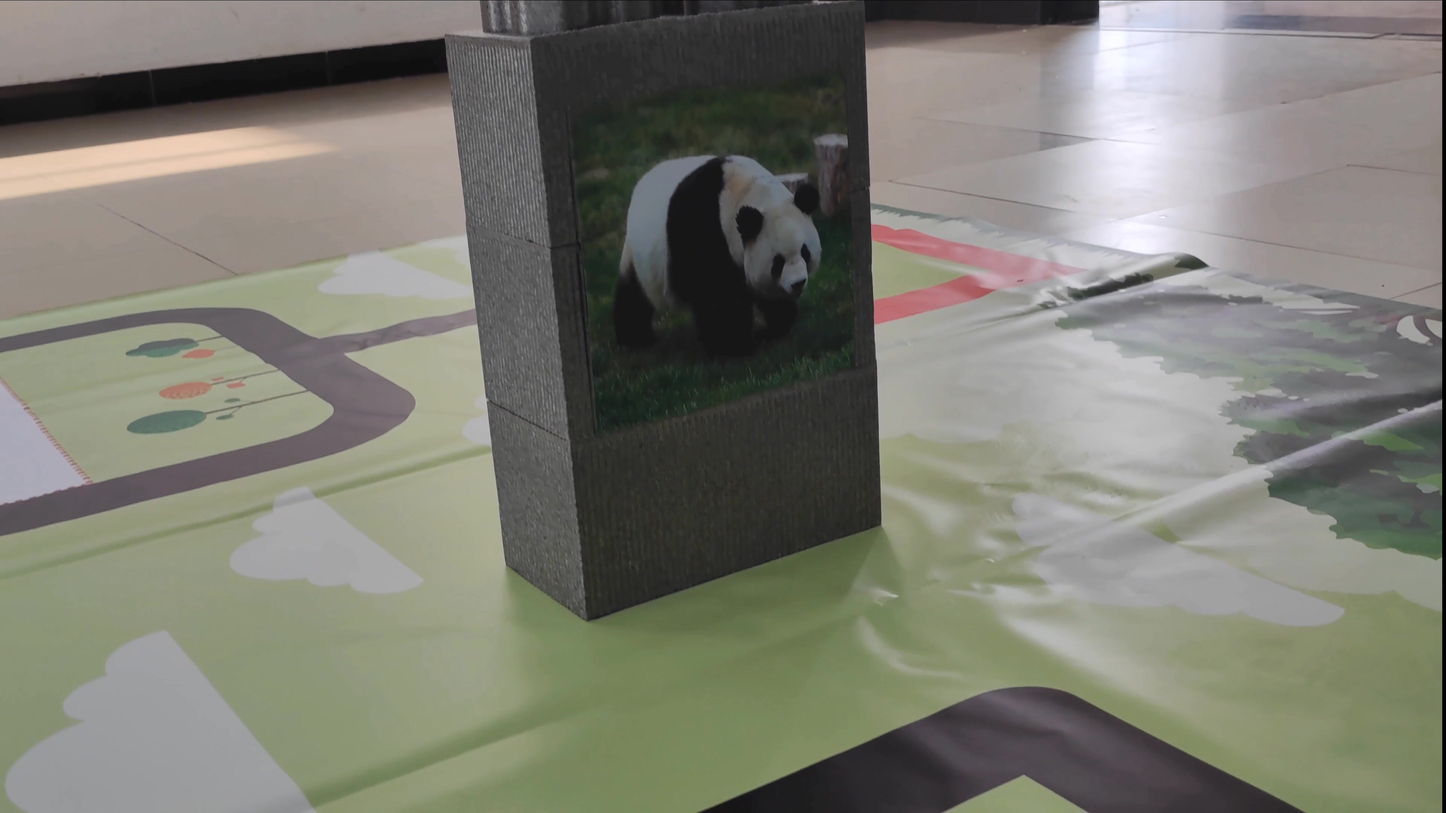panda: (589, 127, 847, 345)
